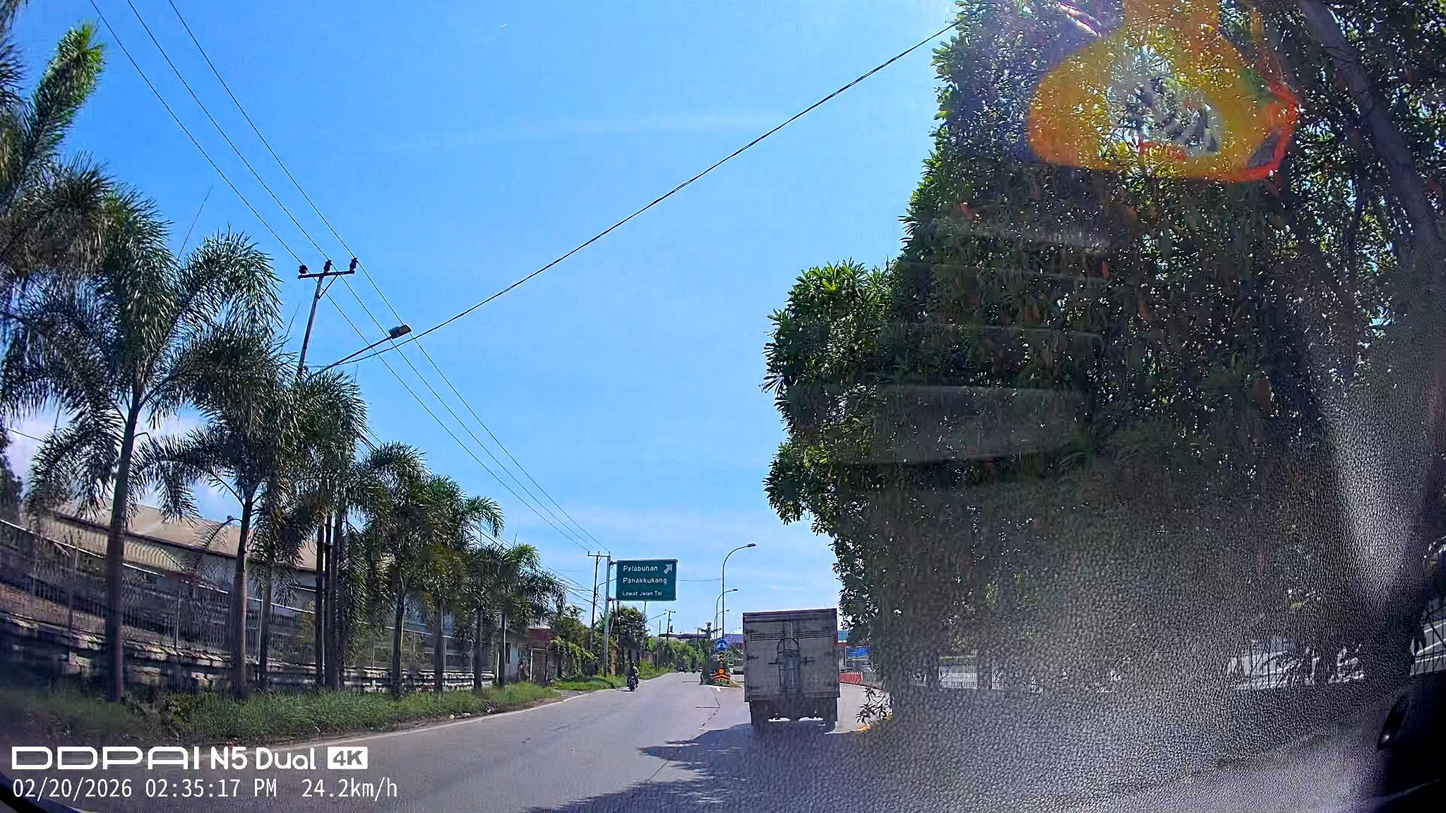rambu_teks: (615, 559, 677, 601)
